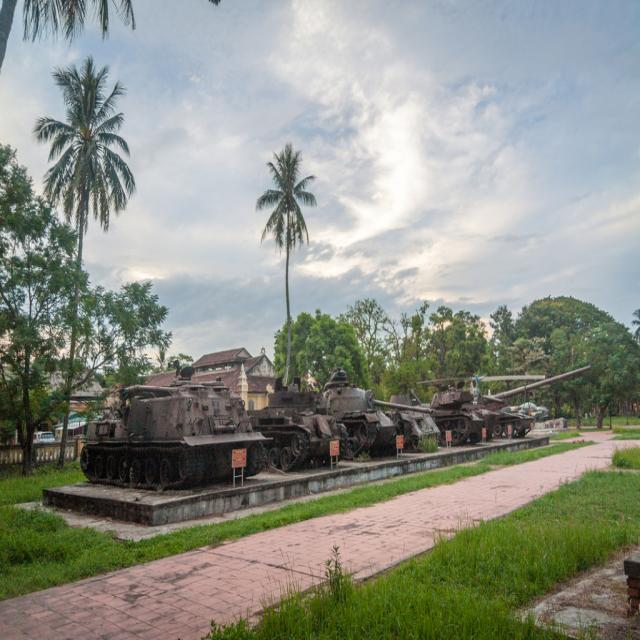tank: (78, 376, 274, 491), (422, 360, 593, 446), (249, 377, 357, 474), (320, 377, 432, 457)
